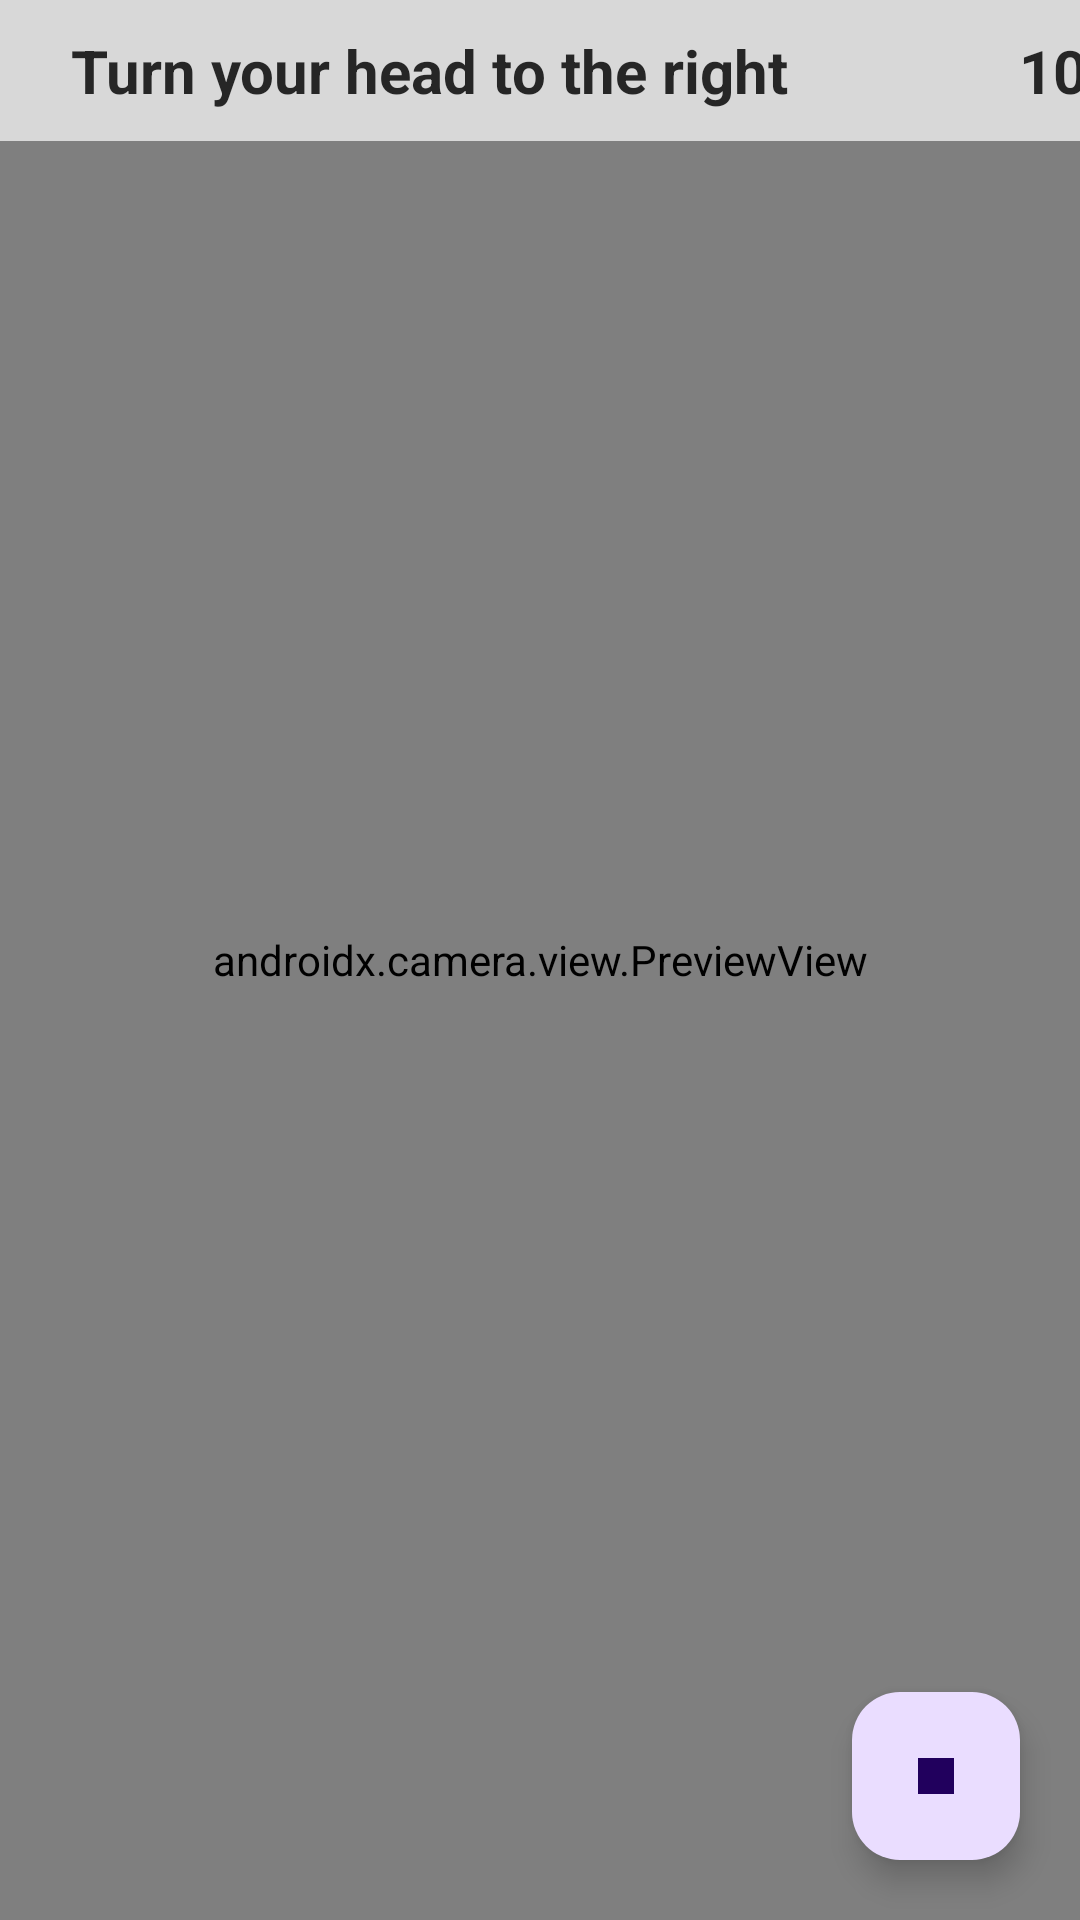

Icons on this 1080x1920 Android screen, each with the point to tap as [x,y]:
stop camera: [936,1776]
